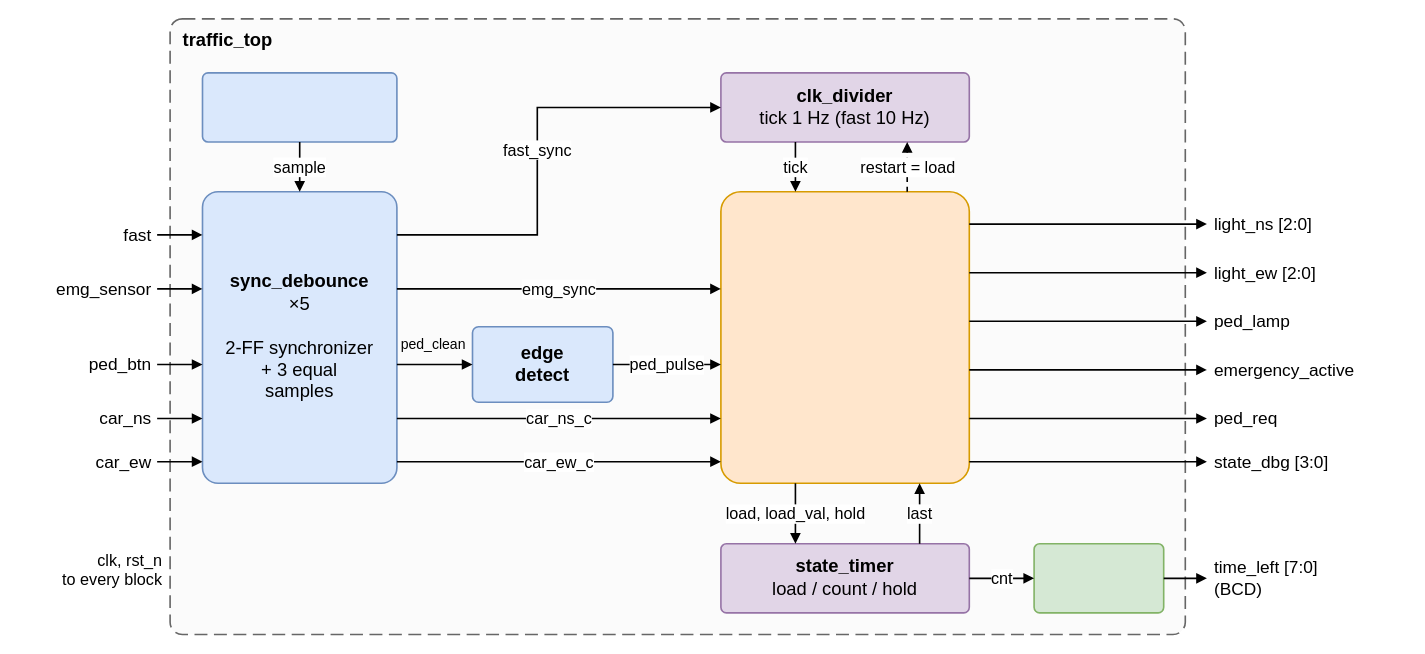
The diagram is 1425 pixels wide and 654 high, and some of its shapes have lost their labels. The centre of each missing label's shape, as x and y in pixels:
"bin2bcd8" belongs at point (1098, 577).
"strobe_gen 1 pulse / 5 ms" belongs at point (299, 107).
"traffic_fsm 9-state Moore FSM next_ew · ped_req ext_cnt registered lights" belongs at point (845, 337).
